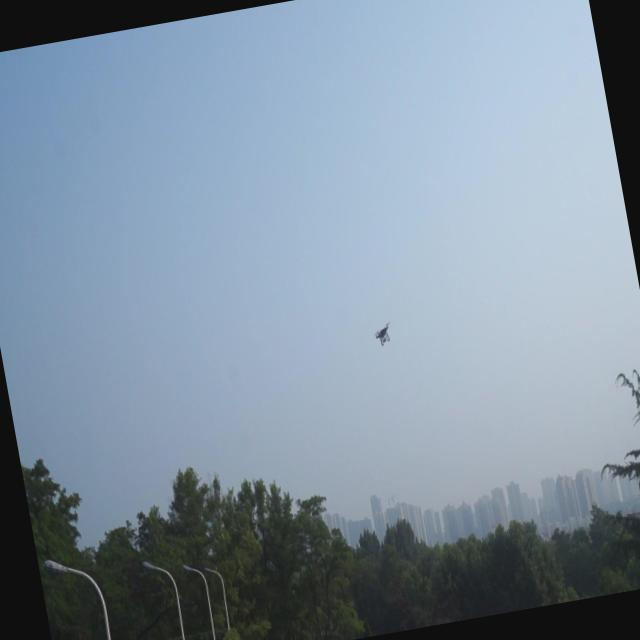drone: (370, 318, 394, 350)
